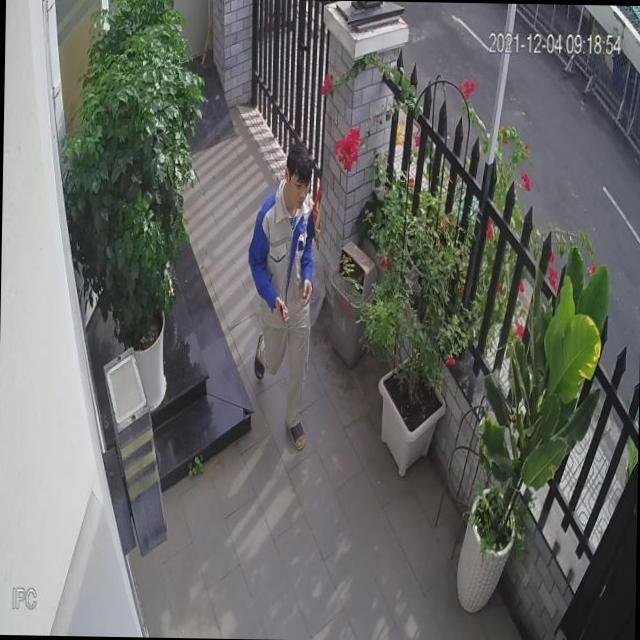person: (246, 142, 316, 451)
